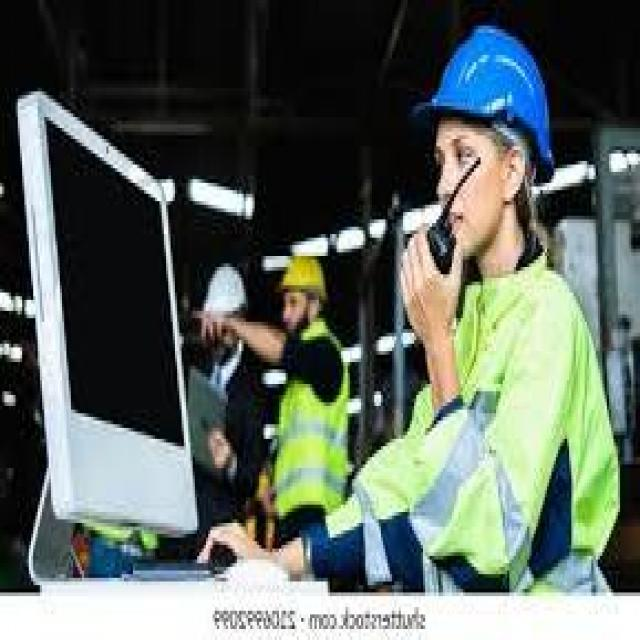Reflective-Jacket: (307, 255, 619, 581), (270, 326, 357, 530)
Safety-Helmet: (416, 22, 565, 183), (200, 260, 250, 322), (275, 252, 330, 300)
